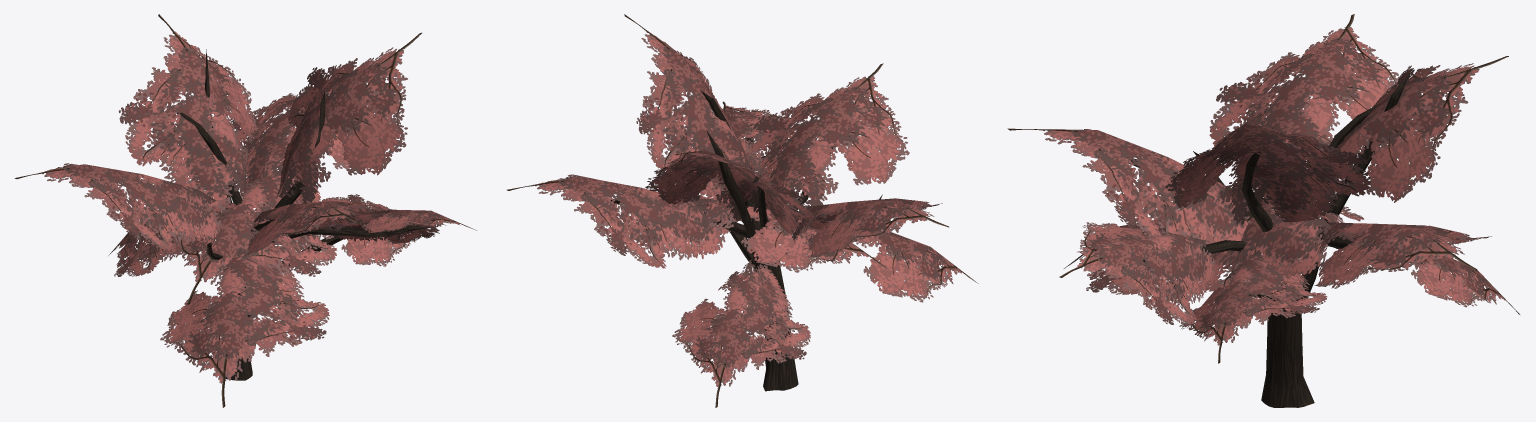
The model's file is sakura.obj.
3 views of the same model, side by side, from view 1: azimuth 30°, elevation 25°; view 2: azimuth 150°, elevation 25°; view 3: azimuth 270°, elevation 25° (orthographic). The views are drawn at different scales.
Visible parts, largest first — view 1: Plane008, Box001; view 2: Plane008, Box001; view 3: Plane008, Box001.
Part boxes in pixels (left/top/right/bottom): Plane008: left=14, top=14, right=476, bottom=407; Box001: left=176, top=49, right=431, bottom=380; Plane008: left=507, top=14, right=978, bottom=407; Box001: left=611, top=91, right=882, bottom=391; Plane008: left=1007, top=14, right=1519, bottom=363; Box001: left=1082, top=69, right=1411, bottom=407.
Size of the model in its own units: 302 by 232 by 284.
